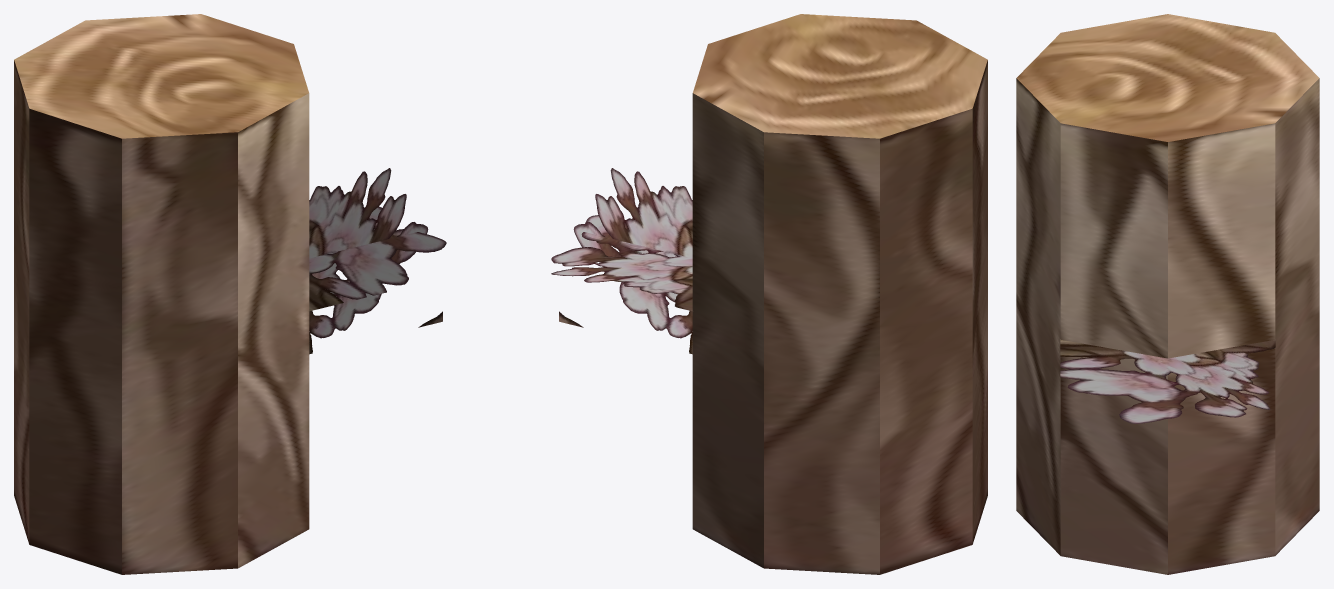
Rendered from cherry_drop.fbx.
3 views of the same model, side by side, from view 1: azimuth 30°, elevation 25°; view 2: azimuth 150°, elevation 25°; view 3: azimuth 270°, elevation 25° (orthographic).
Visible parts, largest first — view 1: cherry_drop; view 2: cherry_drop; view 3: cherry_drop.
Part boxes in pixels (left/top/right/bottom): cherry_drop: left=14, top=14, right=446, bottom=574; cherry_drop: left=551, top=14, right=987, bottom=574; cherry_drop: left=1016, top=14, right=1319, bottom=574.
Bounding box in the file's own units: 313 × 315 × 200.
